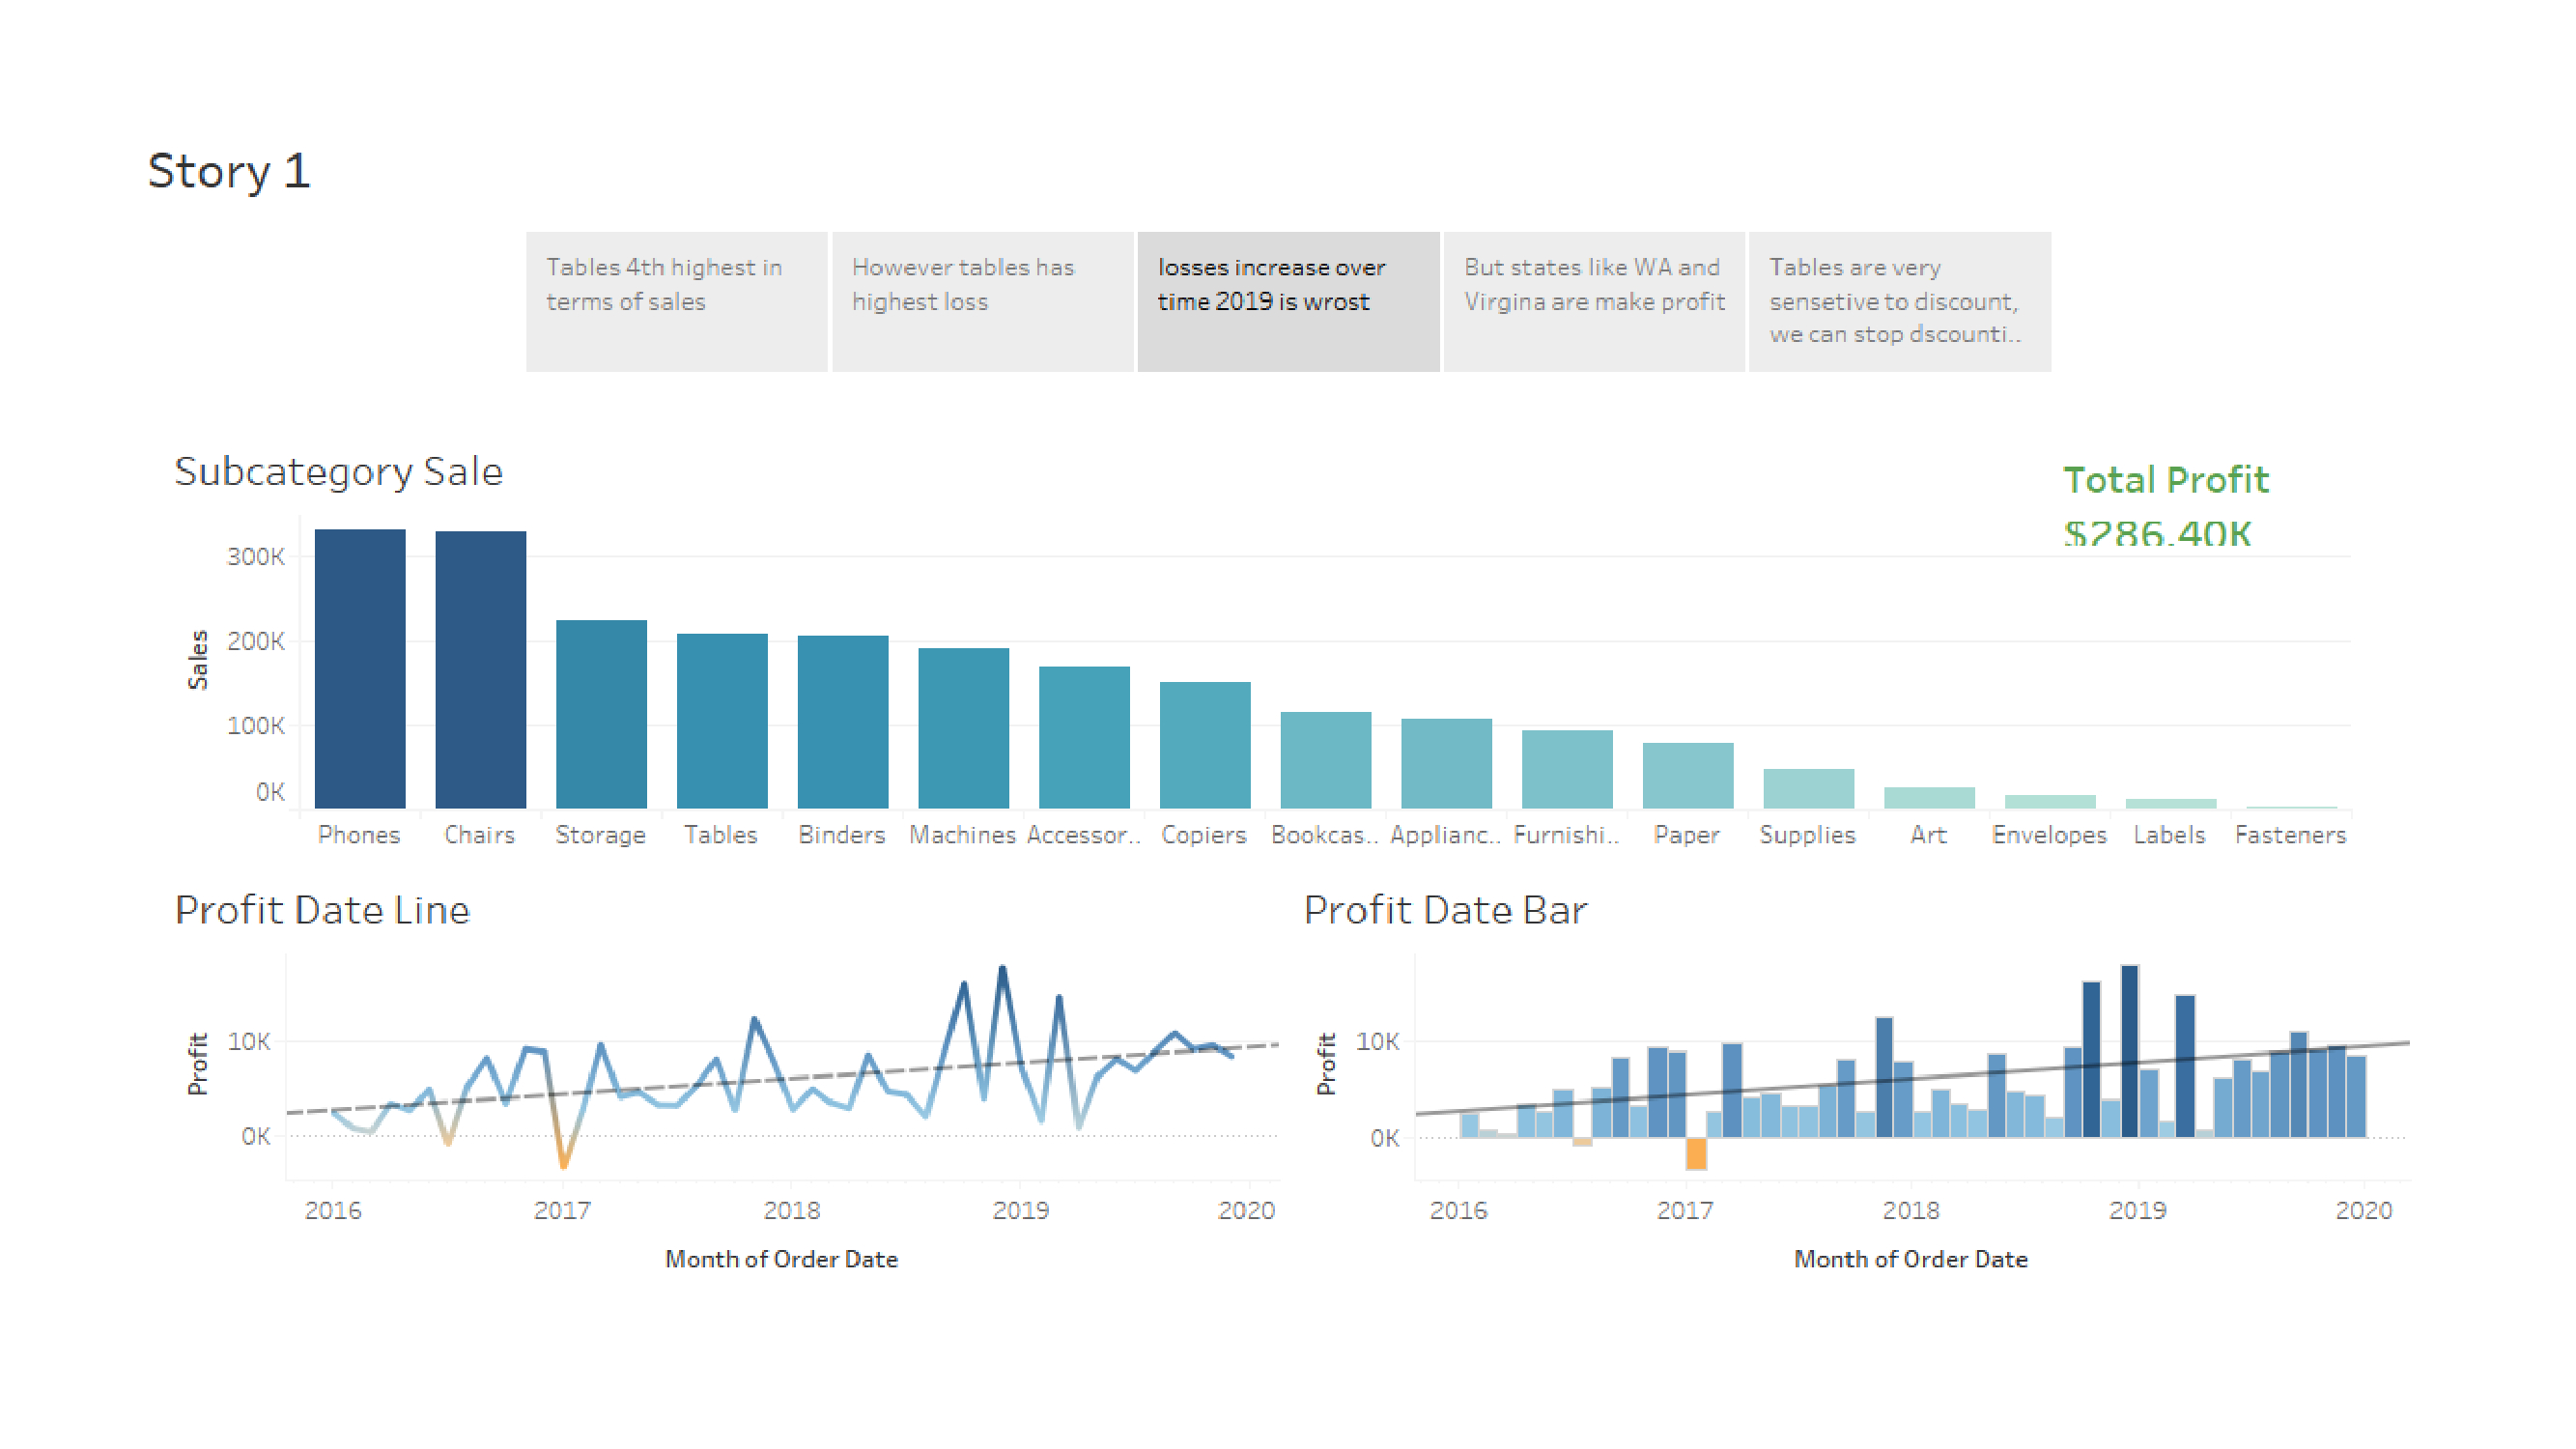

What the dashboard file says about the page in this screenshot:
{"tool":"tableau","page":{"name":"Dash Profit Over Time","canvas":[1000,1000],"units":"permille","ordinal":1},"visuals":[{"type":"worksheet","title":"Subcategory Sale","mark":"Automatic","rows":["Sales"],"cols":["Sub-Category"],"box":[6.9,13.3,986.1,486.7]},{"type":"worksheet","title":"Total Profit","mark":"Automatic","box":[834.6,36.5,98.7,116.3]},{"type":"worksheet","title":"Profit Date Line","mark":"Automatic","rows":["Profit"],"cols":["Order Date"],"box":[6.9,500,493.1,486.7]},{"type":"worksheet","title":"Profit Date Bar","mark":"Bar","rows":["Profit"],"cols":["Order Date"],"box":[500,500,493.1,486.7]}]}

Visuals, with their boxes on the dashboard's canvas, which has no fixed pixel size, in thousandths of its width and height (x1, y1, x2, y2). These are canvas units, not pixel positions in the 2576x1449 screenshot, which may show the page scaled, cropped or inside an application window:
"Subcategory Sale" worksheet: {"x1": 7, "y1": 13, "x2": 993, "y2": 500}
"Total Profit" worksheet: {"x1": 835, "y1": 36, "x2": 933, "y2": 153}
"Profit Date Line" worksheet: {"x1": 7, "y1": 500, "x2": 500, "y2": 987}
"Profit Date Bar" worksheet (Bar marks): {"x1": 500, "y1": 500, "x2": 993, "y2": 987}
